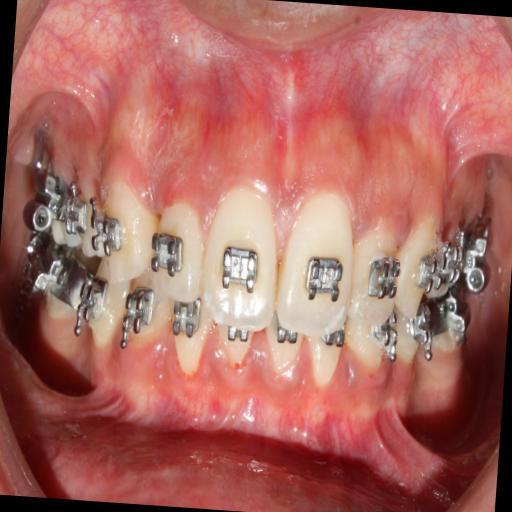correct_brace: (302, 245, 348, 307), (212, 244, 260, 303), (86, 206, 128, 268), (148, 222, 188, 280), (412, 242, 450, 300), (363, 252, 402, 304)
incorrect_brace: (150, 188, 210, 316), (344, 216, 406, 326)
